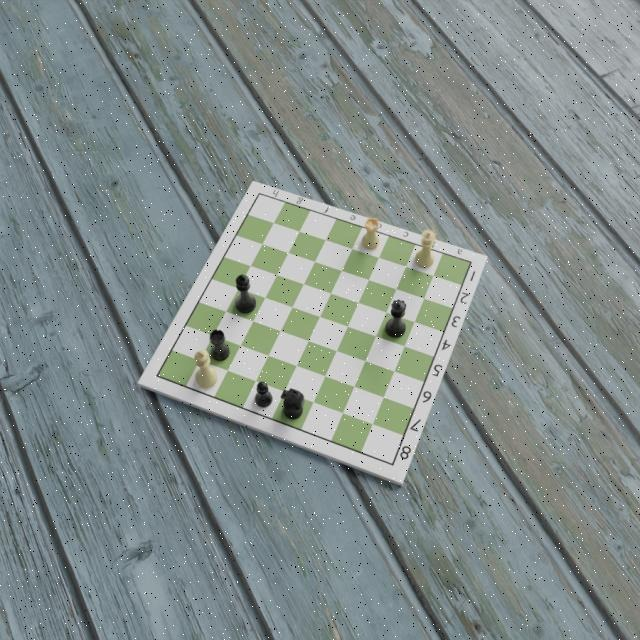black-king: (234, 274, 257, 314)
black-knight: (280, 387, 304, 420)
black-pawn: (255, 379, 273, 409)
black-queen: (383, 298, 408, 338)
black-rook: (210, 330, 230, 362)
white-king: (193, 350, 218, 390)
white-queen: (414, 228, 437, 268)
white-rook: (360, 217, 380, 251)
